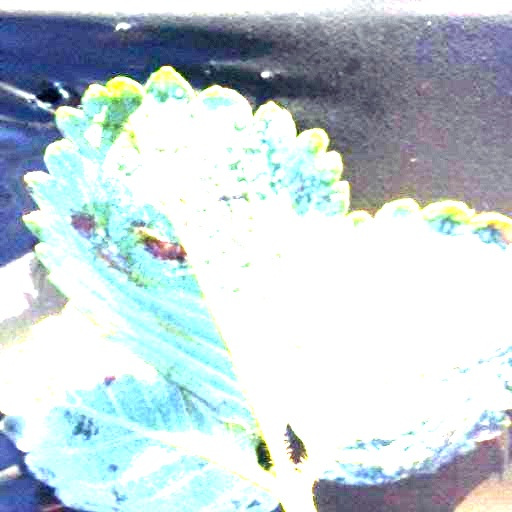Angular Leafspot: (22, 66, 355, 438), (290, 199, 511, 486), (0, 300, 281, 511)
